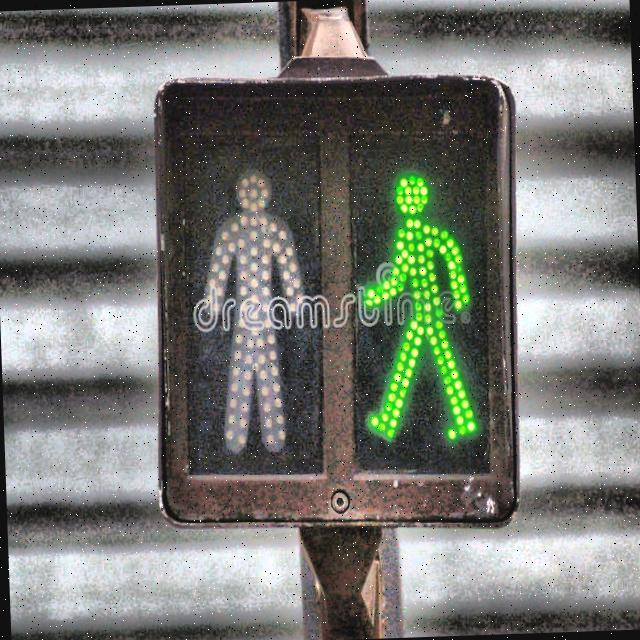green_light: (352, 163, 484, 450)
